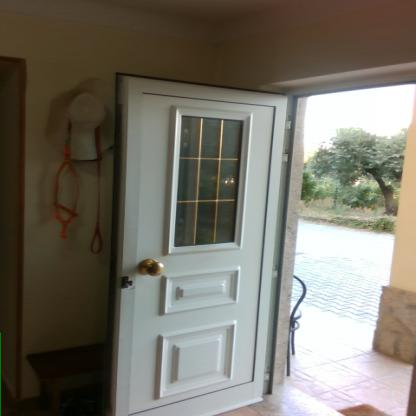open: (103, 58, 415, 416)
